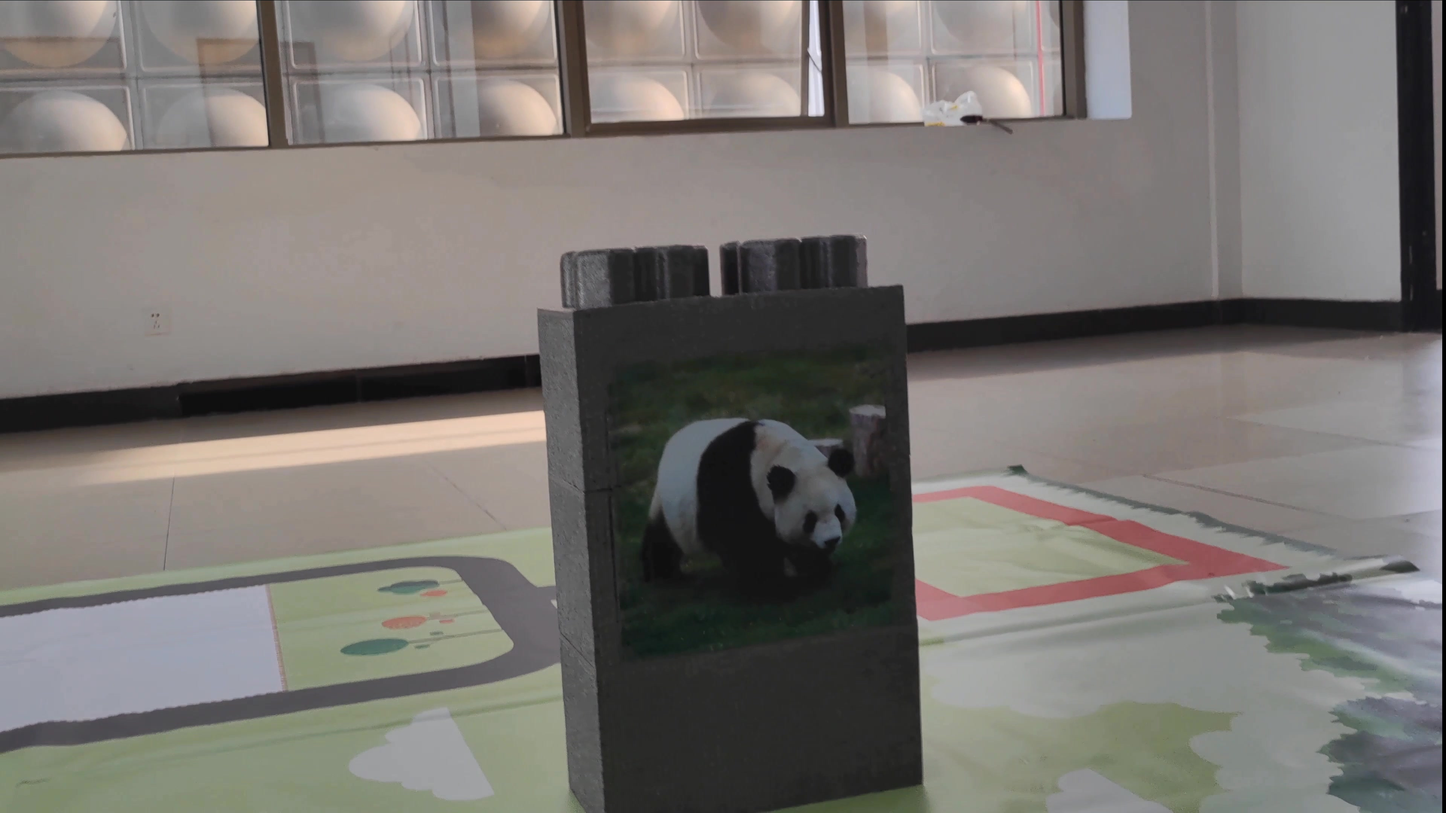panda: (615, 394, 895, 627)
